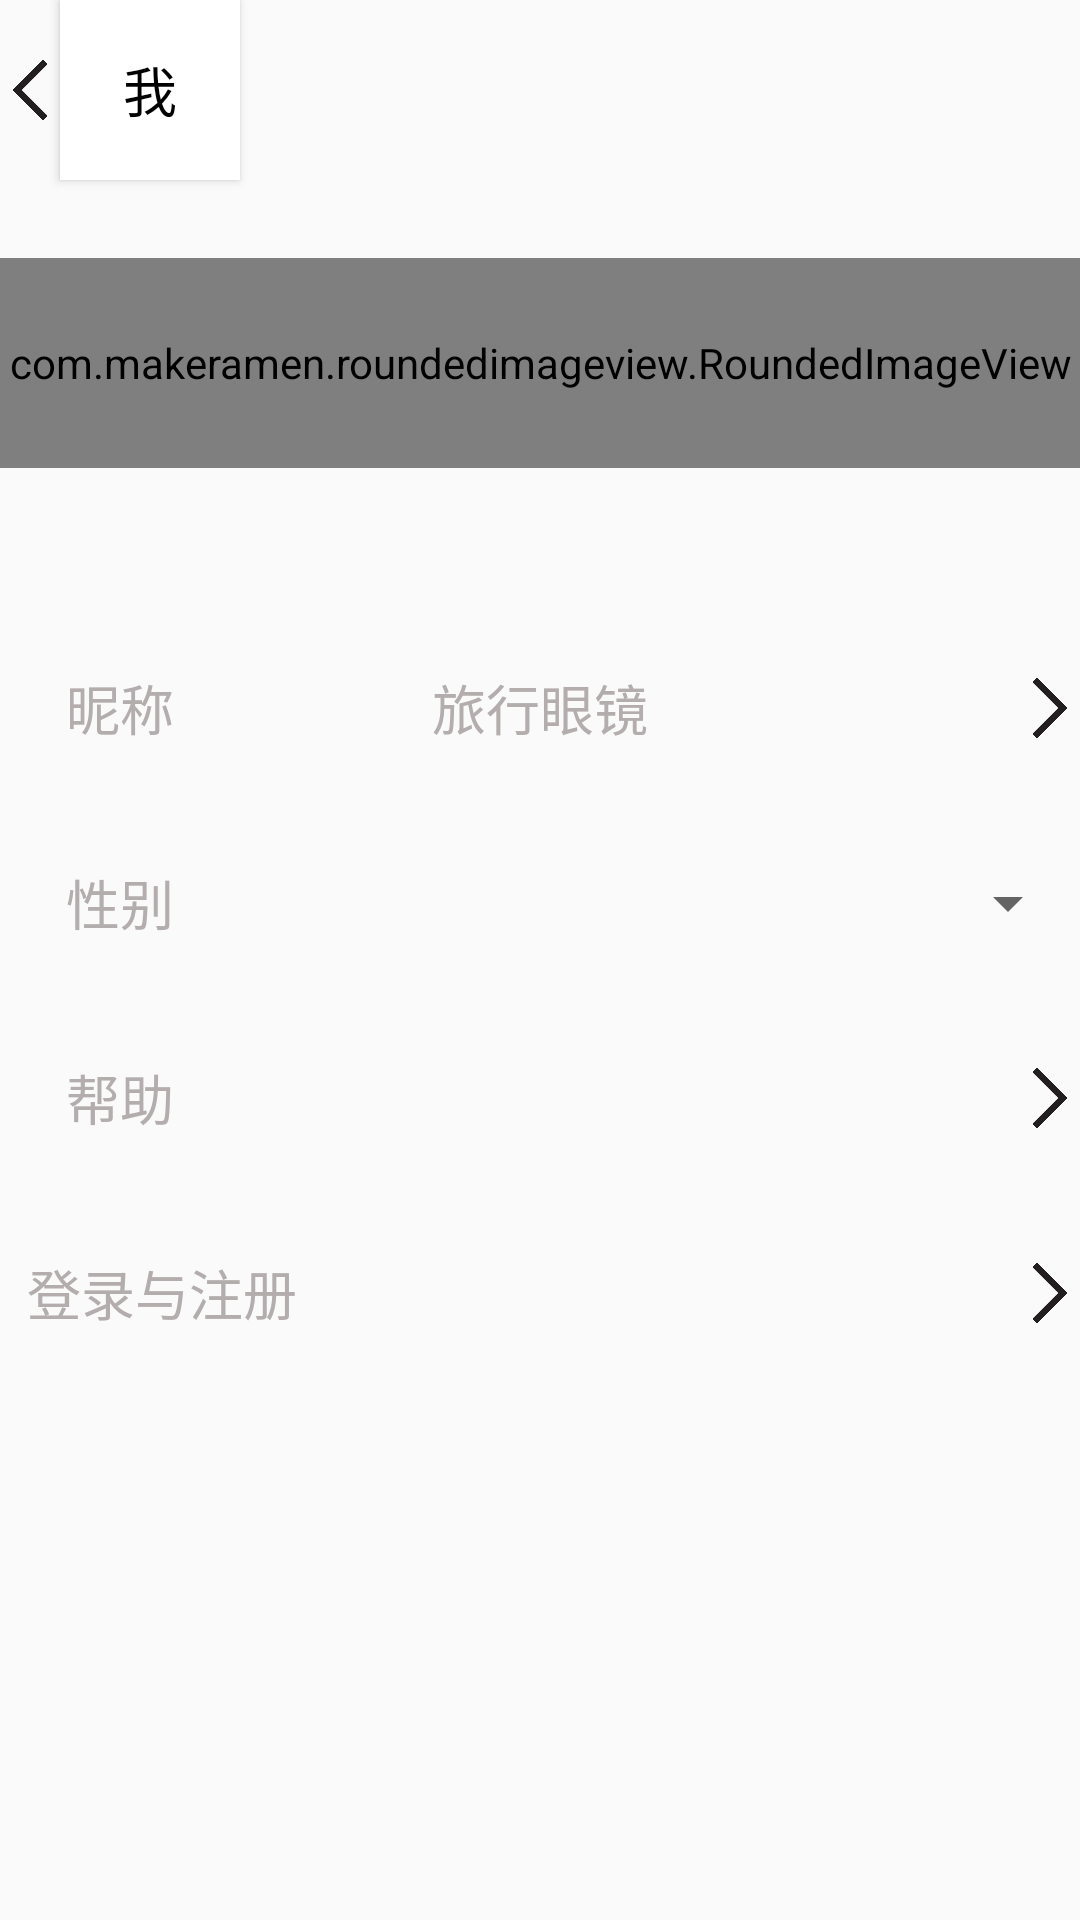

Icon click points for this 1080*1920 phone screenshot, format (x=x, y=y):
left: (x=30, y=90)
right: (x=1050, y=708), (x=1050, y=1098), (x=1050, y=1293)
